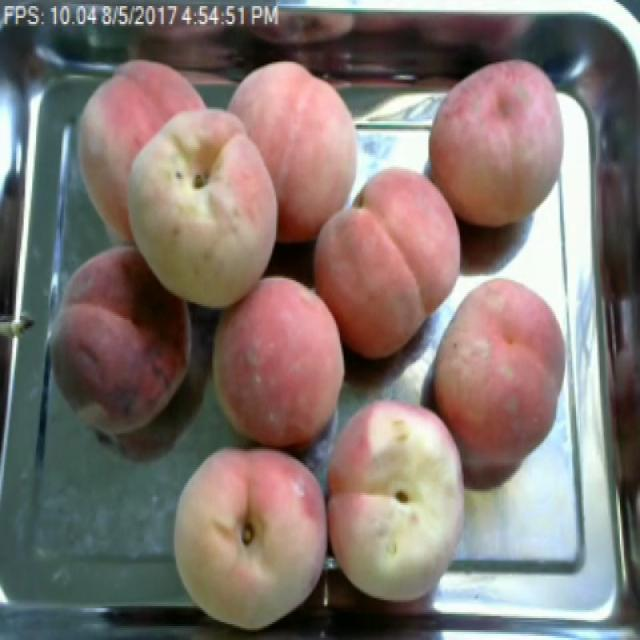Fruit: (116, 93, 292, 320), (31, 235, 208, 457), (300, 155, 475, 370), (421, 266, 580, 485), (325, 384, 479, 610), (162, 431, 330, 638), (216, 48, 376, 252), (199, 266, 360, 465), (419, 45, 580, 238)
